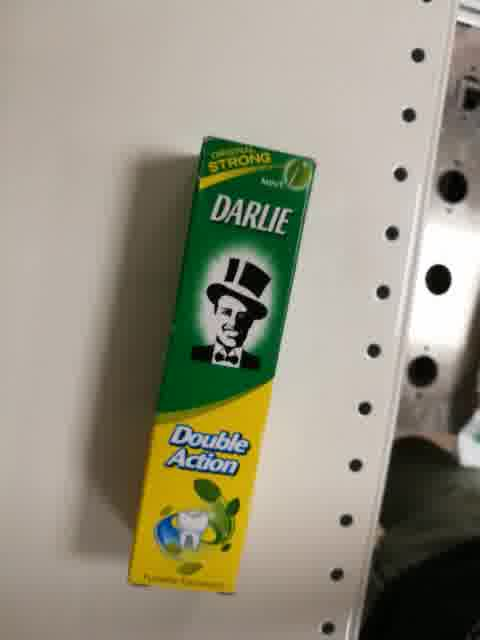toothpaste: (124, 134, 319, 597)
